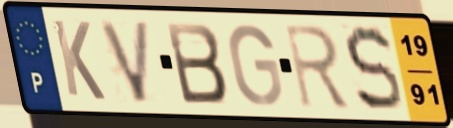B: (162, 19, 230, 106)
G: (226, 22, 285, 109)
K: (49, 16, 109, 103)
R: (282, 21, 354, 112)
S: (341, 22, 406, 115)
V: (96, 18, 153, 106)
